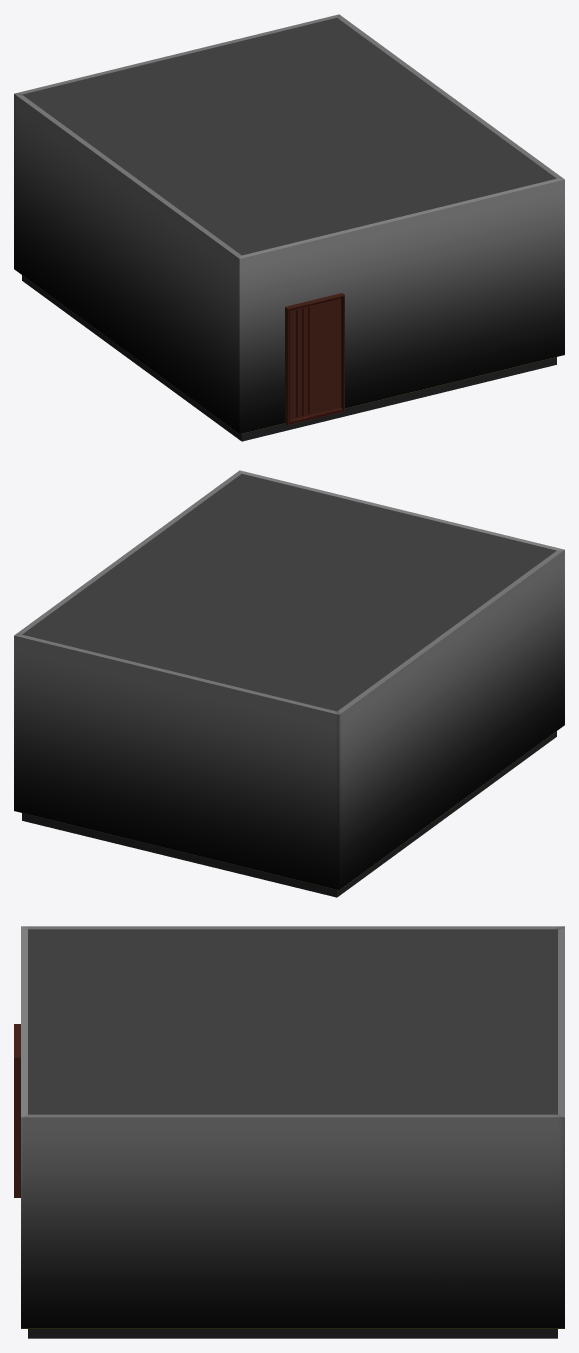
File: room-portfolio.glb
3 renders of one model, top to bottom at view 1: azimuth 30°, elevation 25°; view 2: azimuth 150°, elevation 25°; view 3: azimuth 270°, elevation 25°, orthographic. The views are drawn at different scales.
Parts seen in each view (by area): view 1: Wall, Ceiling, Door, Floor, Door.Frame; view 2: Wall, Ceiling, Floor; view 3: Wall, Ceiling, Floor, Door.Frame.
Boxes of the visible parts, <box> form: Wall: <box>14,14,564,434</box>; Ceiling: <box>22,18,556,255</box>; Door: <box>289,298,342,422</box>; Floor: <box>22,275,556,441</box>; Door.Frame: <box>285,293,344,425</box>; Wall: <box>14,470,564,890</box>; Ceiling: <box>22,474,556,711</box>; Floor: <box>22,731,556,897</box>; Wall: <box>21,926,564,1328</box>; Ceiling: <box>28,929,557,1114</box>; Floor: <box>28,1329,557,1338</box>; Door.Frame: <box>14,1024,20,1197</box>.
Size of the model in its own units: 6.4 by 3.5 by 7.8.
Materials: 1 (1 with a texture image).
